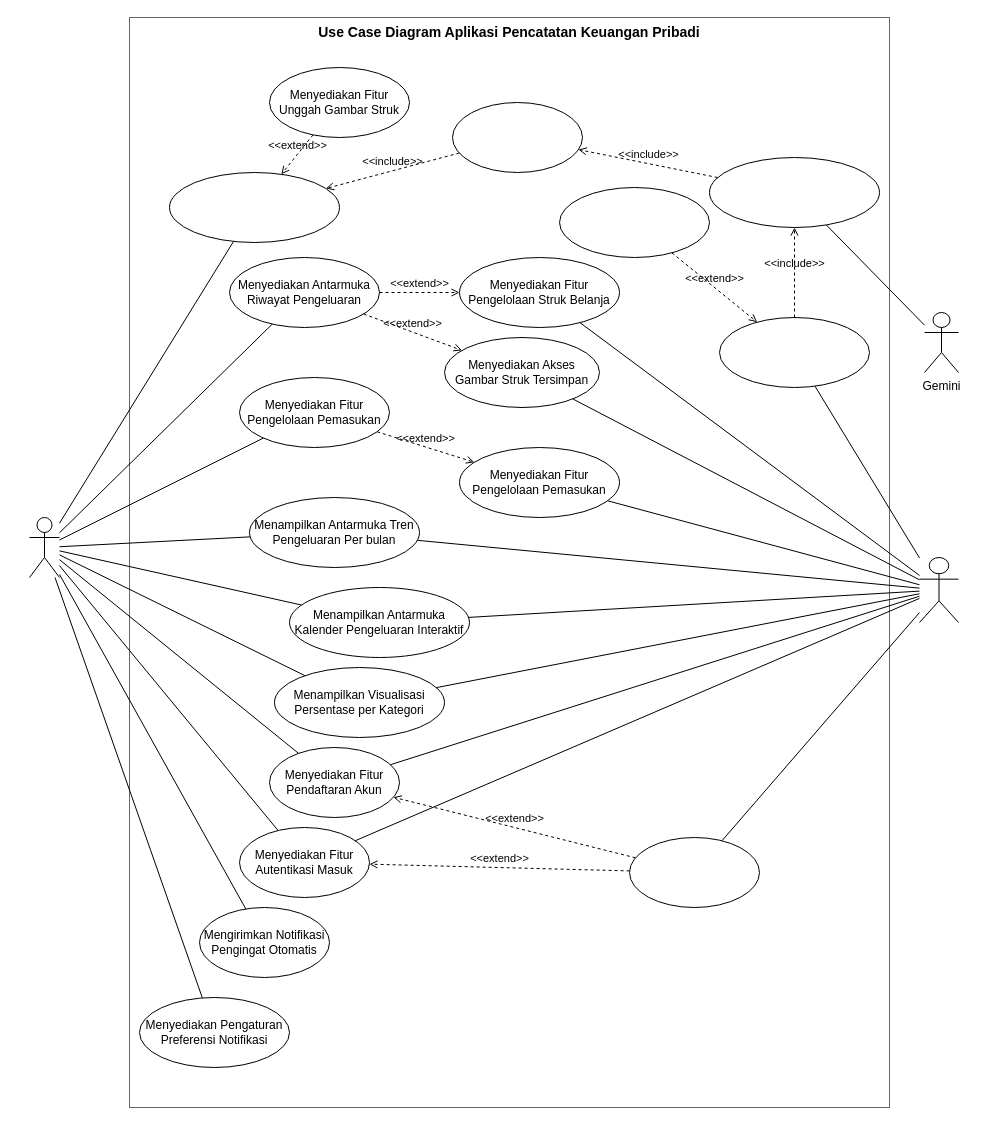
This 990x1125 diagram has some shape labels left out. Here are the shapes that lost their labels. From the top down, the centre of each, then its label:
the point at 517,137: Memindai Teks Pada Struk Belanja
the point at 254,207: Menyediakan Antarmuka Pengambilan Foto Struk
the point at 794,192: Melakukan Strukturisasi Data Struk Belanja
the point at 634,222: Menyediakan Formulir Tinjauan Data Ekstraksi
the point at 794,352: Menyimpan Data Pengeluaran Hasil Scan
the point at 44,547: Pengguna
the point at 938,589: Web Service
the point at 694,872: Menyediakan Fitur Keluar dari Sistem
